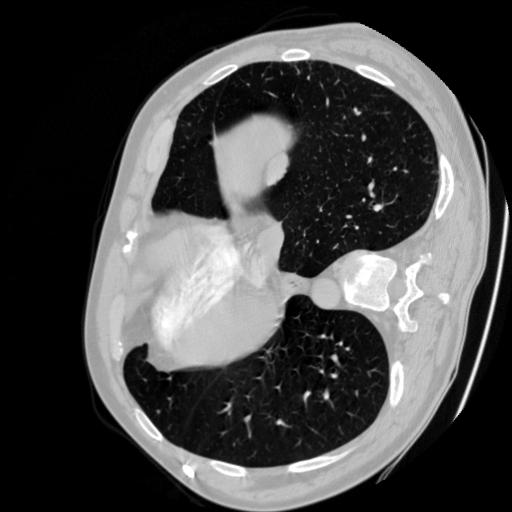nodule: (262, 153, 290, 181)
